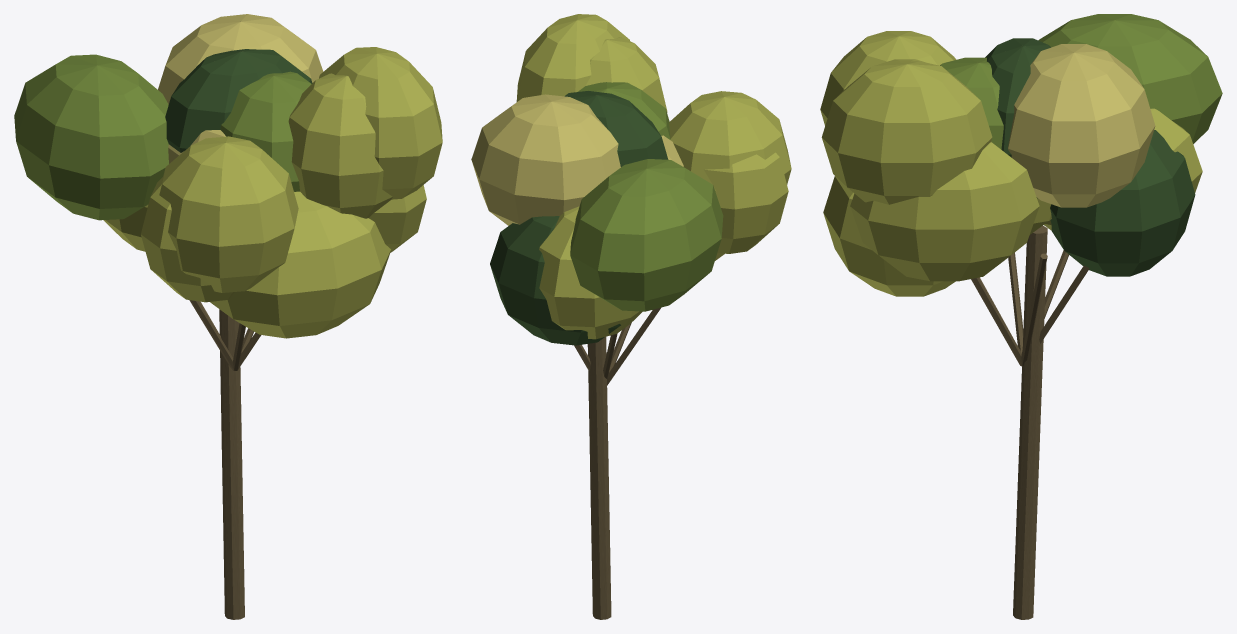
File: Forest_BacklitTree_03.obj
The picture shows the model from 3 angles, left to right: view 1: azimuth 30°, elevation 25°; view 2: azimuth 150°, elevation 25°; view 3: azimuth 270°, elevation 25°; orthographic projection. The views are drawn at different scales.
Visible parts, largest first — view 1: Forest_BacklitTree_03; view 2: Forest_BacklitTree_03; view 3: Forest_BacklitTree_03.
Boxes of the visible parts, x1,y1,x2,y2 form: Forest_BacklitTree_03: [14, 14, 442, 619]; Forest_BacklitTree_03: [471, 14, 791, 619]; Forest_BacklitTree_03: [820, 14, 1222, 619].
Bounding box in the file's own units: 5.56 × 10.56 × 6.49.
Materials: 1 (1 with a texture image).
